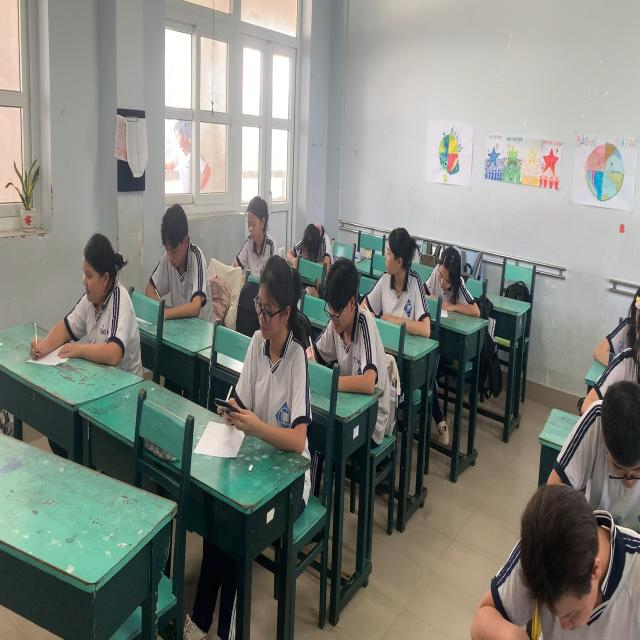cheating: (376, 215, 422, 340)
not_cheating: (492, 476, 637, 640), (241, 250, 310, 461), (56, 231, 142, 375), (316, 242, 371, 438), (146, 199, 211, 321), (580, 373, 640, 497), (232, 182, 276, 278), (427, 236, 469, 323), (293, 210, 325, 278)
